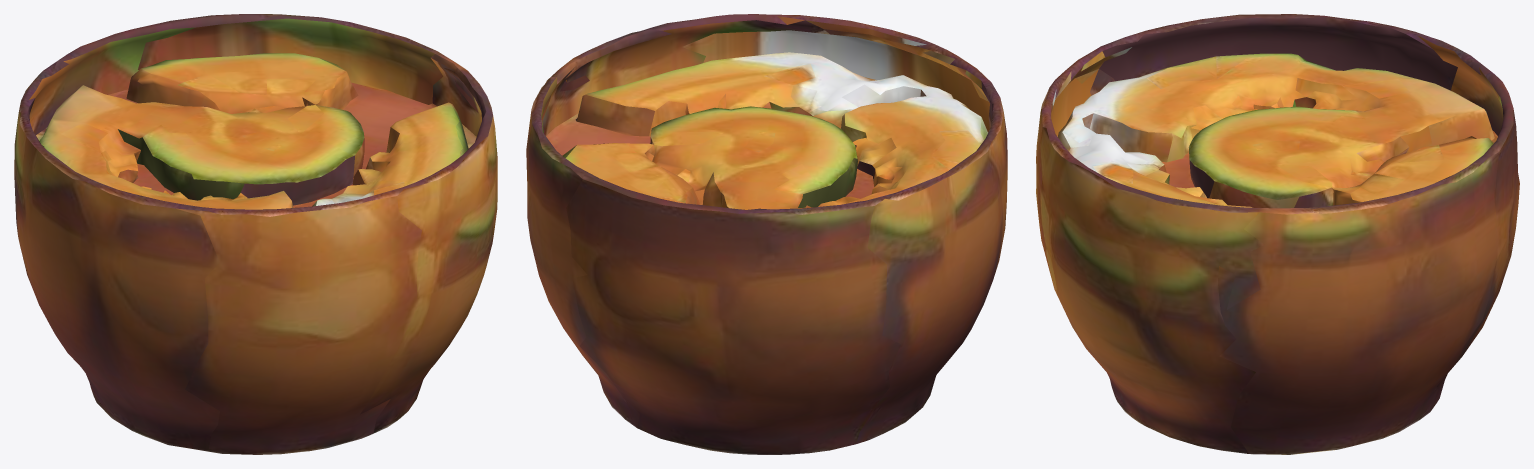
Rendered from honey_melon.glb.
3 views of the same model, side by side, from view 1: azimuth 30°, elevation 25°; view 2: azimuth 150°, elevation 25°; view 3: azimuth 270°, elevation 25° (orthographic).
Parts seen in each view (by area): view 1: honey_melon; view 2: honey_melon; view 3: honey_melon.
Boxes of the visible parts, x1,y1,x2,y2 form: honey_melon: (14, 14, 497, 454); honey_melon: (526, 14, 1007, 454); honey_melon: (1036, 14, 1519, 454).
Size of the model in its own units: 0.9969 by 0.6776 by 1.
1 material, 1 textured.
